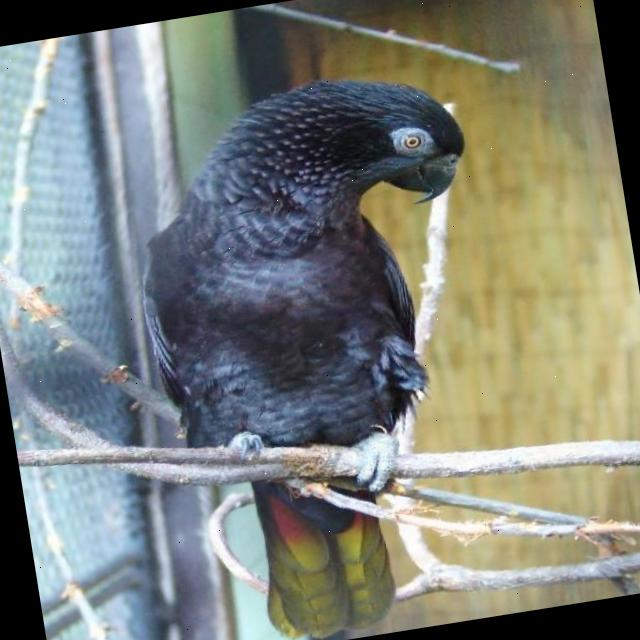Nuri Hitam: (87, 45, 564, 640)
